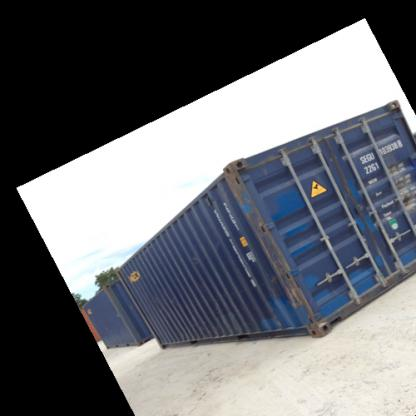Damage: (251, 213, 304, 298), (180, 318, 256, 338), (388, 160, 412, 206), (144, 276, 169, 314), (202, 188, 216, 206)
